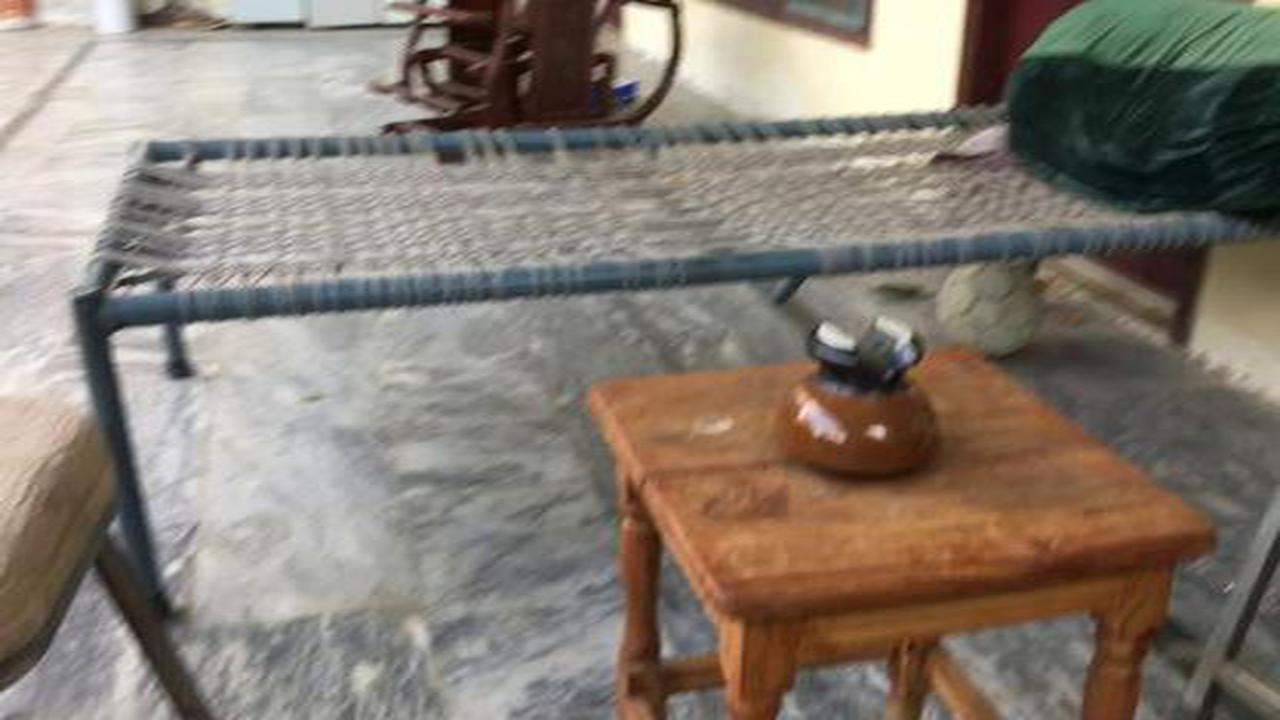insulator_pin: (757, 295, 957, 496)
